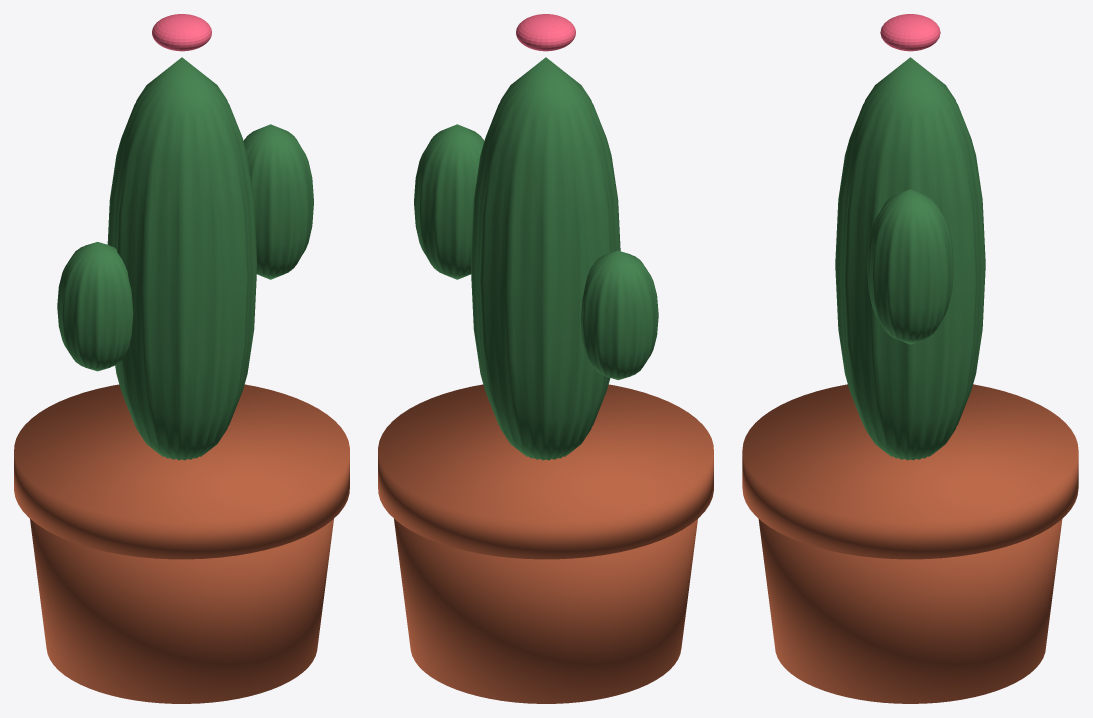
Rendered from plant_cactus.glb.
The picture shows the model from 3 angles, left to right: view 1: azimuth 30°, elevation 25°; view 2: azimuth 150°, elevation 25°; view 3: azimuth 270°, elevation 25°; orthographic projection.
Visible parts, largest first — view 1: plant_cactus; view 2: plant_cactus; view 3: plant_cactus.
Boxes of the visible parts, x1,y1,x2,y2 form: plant_cactus: (14,14,349,703); plant_cactus: (378,14,713,703); plant_cactus: (742,14,1078,703).
Size of the model in its own units: 0.1116 by 0.23 by 0.1116.
